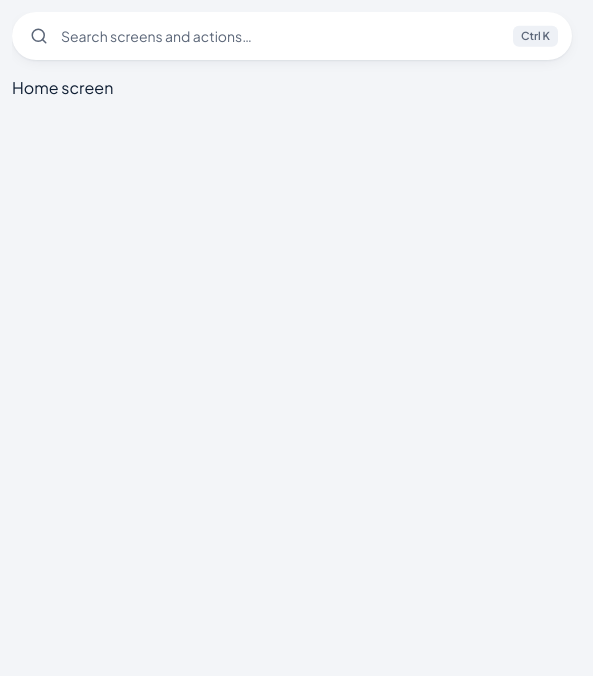
Test case: Command search › opens with Ctrl+K, filters, and goes to the chosen action with Enter
Type keys "{Control>}k{/Control}"
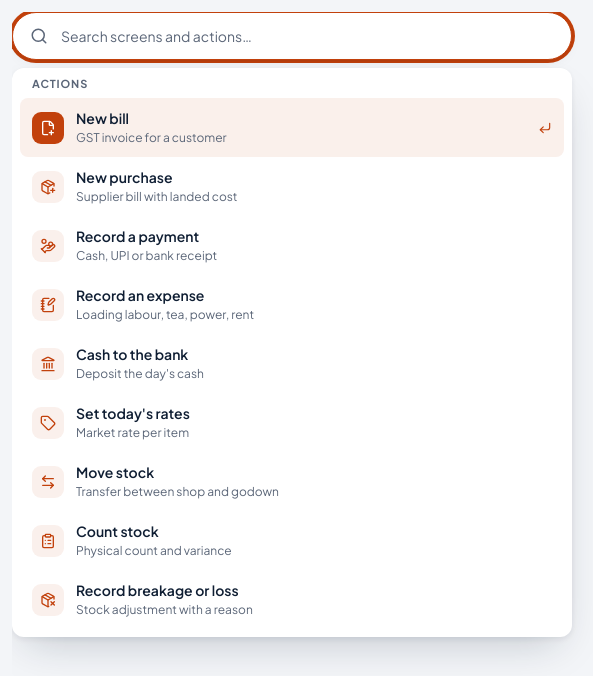
Type "purchase" into the dropdown labelled "Search screens and actions" at point(292, 36), box [12,12,572,60]
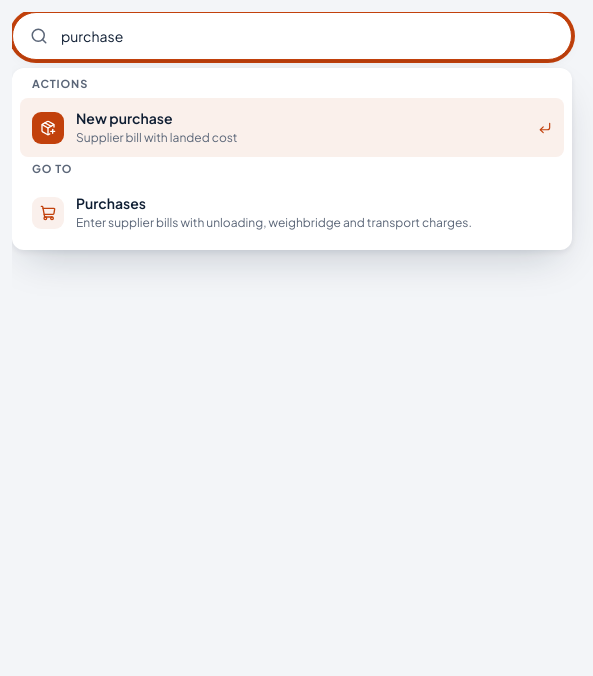
Expected: the option "New purchase Supplier bill with landed cost" is selected, [20,98,564,157]
Press Enter
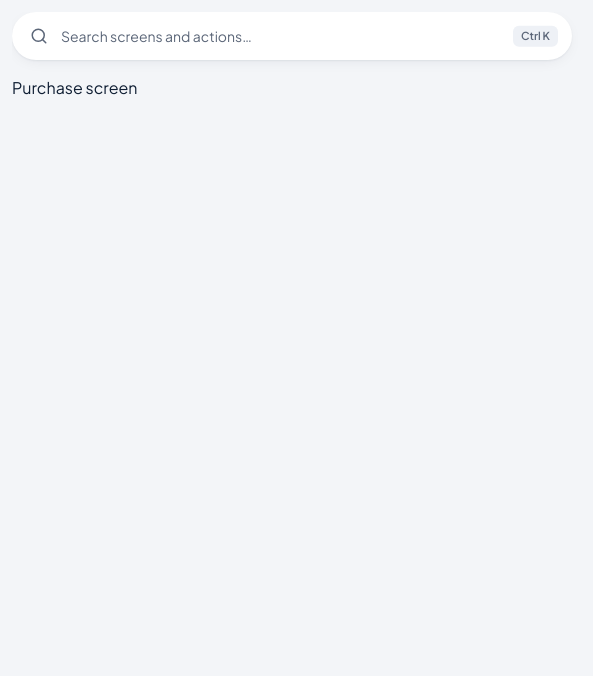
Expected: the text "Purchase screen" is shown, [12,77,138,98]
